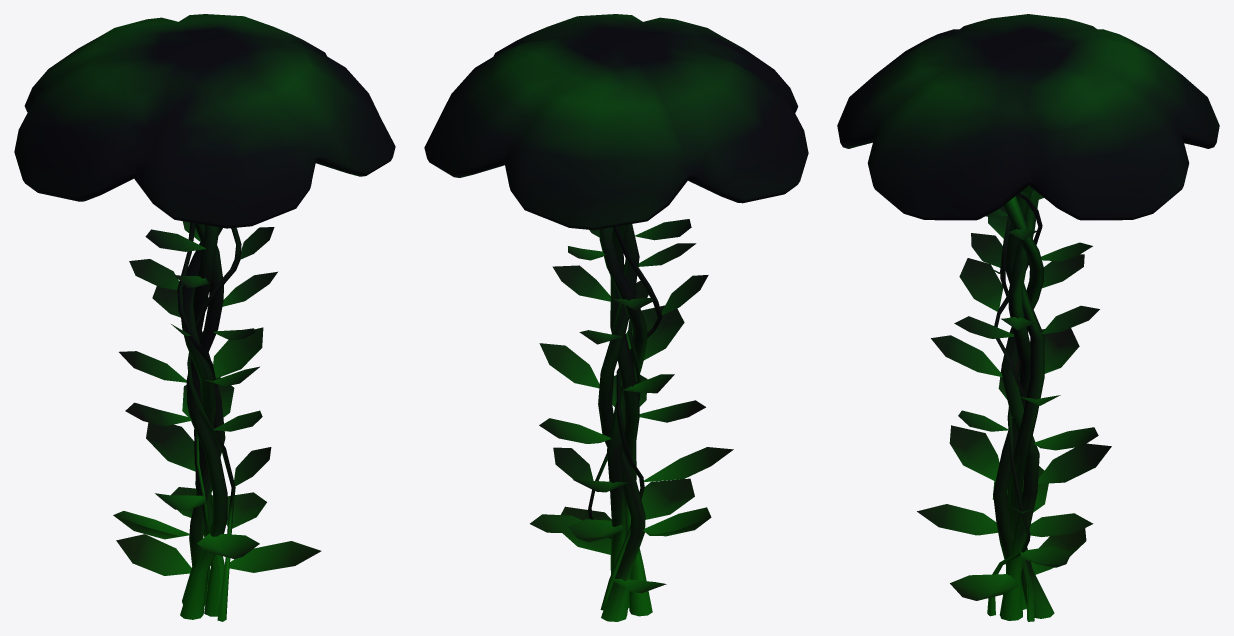
File: env_nature_foliage_seaplant.fbx
3 renders of one model, left to right at view 1: azimuth 30°, elevation 25°; view 2: azimuth 150°, elevation 25°; view 3: azimuth 270°, elevation 25°, orthographic.
Parts seen in each view (by area): view 1: env_nature_seaplant; view 2: env_nature_seaplant; view 3: env_nature_seaplant.
Boxes of the visible parts, <box> form: env_nature_seaplant: <box>14,14,395,621</box>; env_nature_seaplant: <box>424,14,808,621</box>; env_nature_seaplant: <box>837,14,1219,621</box>.
Bounding box in the file's own units: 9.14 × 15.14 × 9.26.
